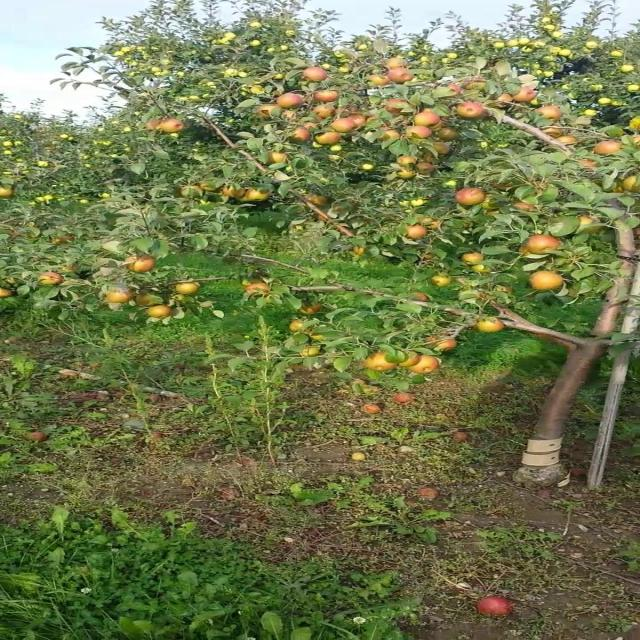apple: (520, 234, 560, 255), (529, 270, 564, 291), (362, 351, 398, 371), (407, 355, 440, 374), (453, 188, 487, 206), (456, 101, 487, 119), (104, 286, 133, 304), (127, 255, 156, 272), (276, 92, 304, 109), (387, 66, 413, 84), (576, 215, 602, 233), (382, 98, 411, 114), (413, 109, 440, 126), (593, 140, 622, 155), (427, 336, 456, 351), (473, 318, 504, 332), (133, 292, 162, 306), (240, 188, 271, 201), (513, 86, 538, 102), (327, 202, 351, 218), (404, 126, 433, 139), (302, 66, 327, 81), (158, 118, 184, 132), (316, 131, 342, 145), (536, 105, 562, 119), (38, 271, 64, 285), (400, 352, 422, 368), (331, 118, 356, 132), (244, 281, 269, 295), (462, 76, 487, 90), (620, 175, 640, 192), (178, 185, 204, 198), (460, 251, 484, 265), (418, 216, 442, 230), (220, 184, 244, 198), (289, 126, 311, 141), (458, 289, 480, 304), (304, 194, 331, 206), (313, 105, 336, 119), (400, 351, 420, 367), (147, 305, 171, 318), (176, 281, 200, 294), (436, 128, 460, 141), (256, 104, 280, 117), (407, 225, 429, 239), (300, 301, 322, 315), (313, 90, 338, 102), (367, 74, 391, 86), (222, 185, 244, 198), (416, 161, 436, 175), (384, 56, 407, 68), (542, 125, 564, 137), (289, 319, 309, 332), (380, 128, 400, 141), (314, 209, 333, 222), (429, 275, 451, 286), (300, 346, 322, 357), (338, 105, 360, 116), (269, 151, 289, 163), (336, 224, 356, 236), (433, 141, 451, 154), (349, 114, 367, 127), (513, 201, 536, 211), (398, 155, 418, 166), (556, 134, 578, 144), (411, 291, 431, 302), (198, 180, 218, 191), (480, 198, 498, 210), (496, 92, 513, 104), (396, 169, 416, 179), (144, 118, 162, 129), (471, 264, 491, 273), (578, 159, 598, 168), (447, 82, 462, 94), (351, 245, 367, 256), (420, 151, 436, 162), (0, 288, 16, 298), (60, 264, 78, 272), (493, 286, 513, 293), (309, 332, 324, 341), (302, 121, 318, 129), (282, 110, 296, 118), (611, 185, 624, 193)
